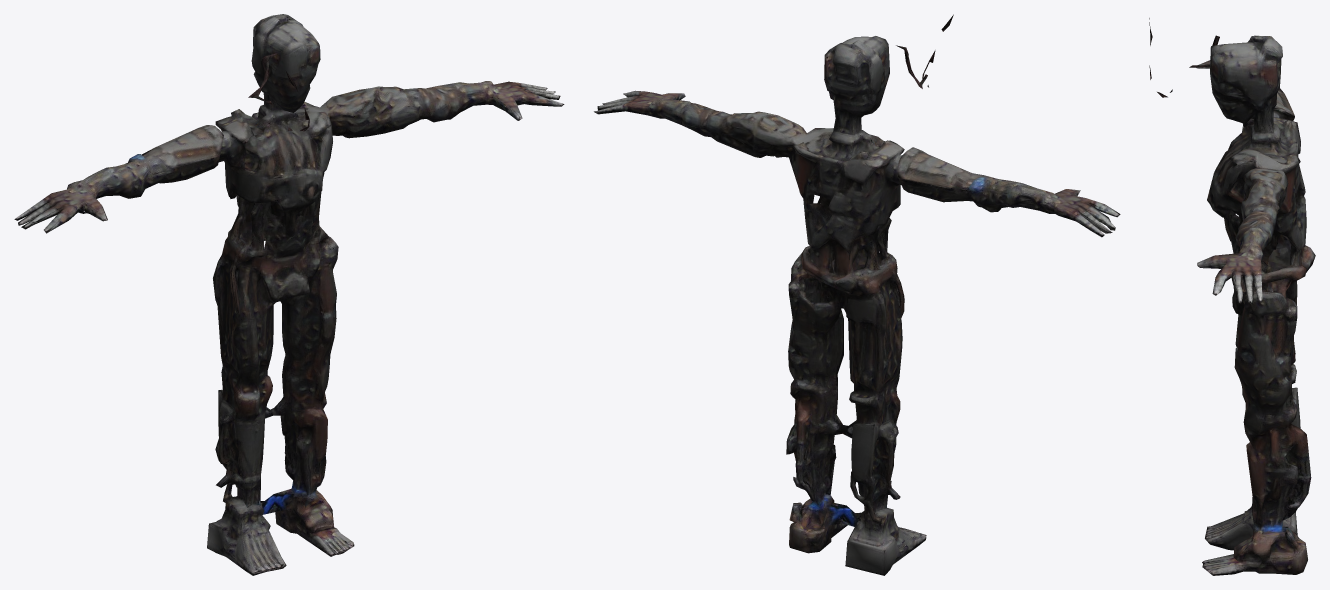
The model's file is crawler.glb.
3 renders of one model, left to right at view 1: azimuth 30°, elevation 25°; view 2: azimuth 150°, elevation 25°; view 3: azimuth 270°, elevation 25°, orthographic. The views are drawn at different scales.
Parts seen in each view (by area): view 1: crawler; view 2: crawler; view 3: crawler.
Boxes of the visible parts, bbox=[...] form: crawler: bbox=[14, 14, 564, 575]; crawler: bbox=[594, 14, 1120, 575]; crawler: bbox=[1149, 18, 1315, 575].
Bounding box in the file's own units: 0.9991 × 0.9453 × 0.2732.
1 material, 1 textured.
